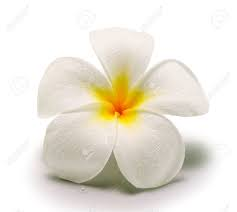frangipani: (35, 27, 216, 191)
